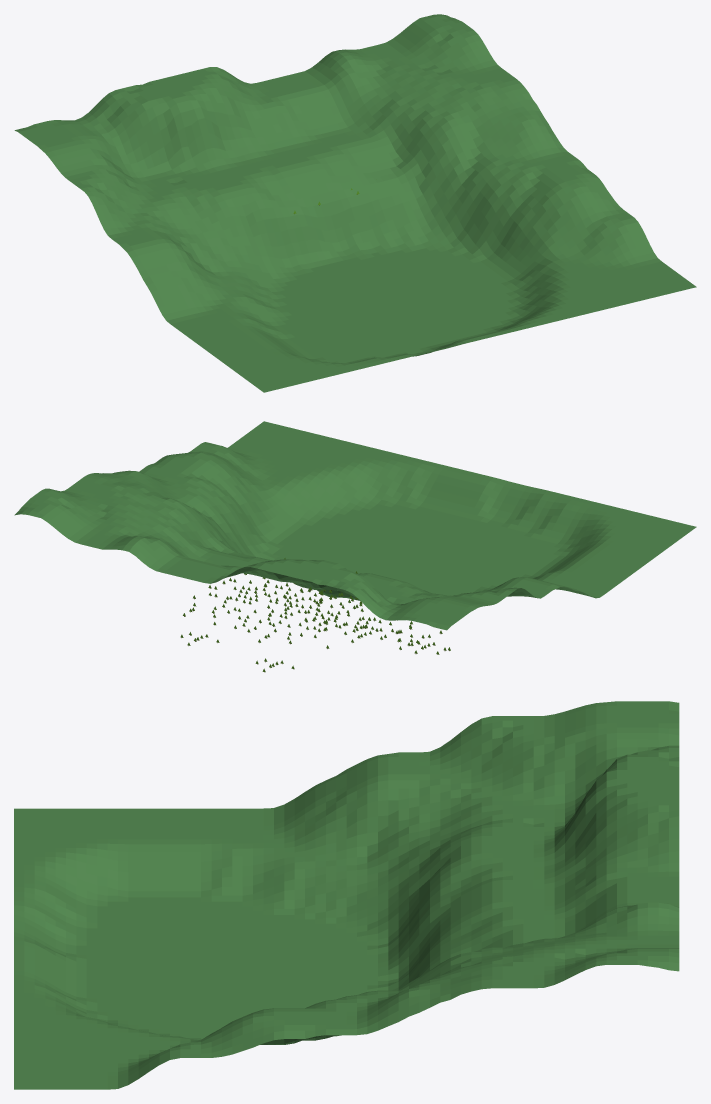
The model's file is test_landscape_2.glb.
The picture shows the model from 3 angles, top to bottom: view 1: azimuth 30°, elevation 25°; view 2: azimuth 150°, elevation 25°; view 3: azimuth 270°, elevation 25°; orthographic projection. The views are drawn at different scales.
Parts seen in each view (by area): view 1: Plane; view 2: Plane; view 3: Plane.
Boxes of the visible parts, x1,y1,x2,y2 form: Plane: (14, 14, 696, 392); Plane: (14, 421, 696, 630); Plane: (14, 701, 679, 1089).
Size of the model in its own units: 330 by 84.23 by 339.
